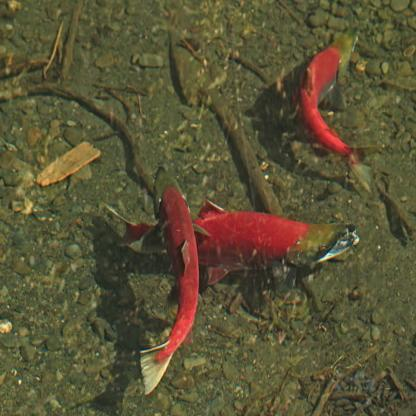sockeye: (100, 209, 360, 273), (148, 156, 198, 388), (292, 20, 364, 148)
